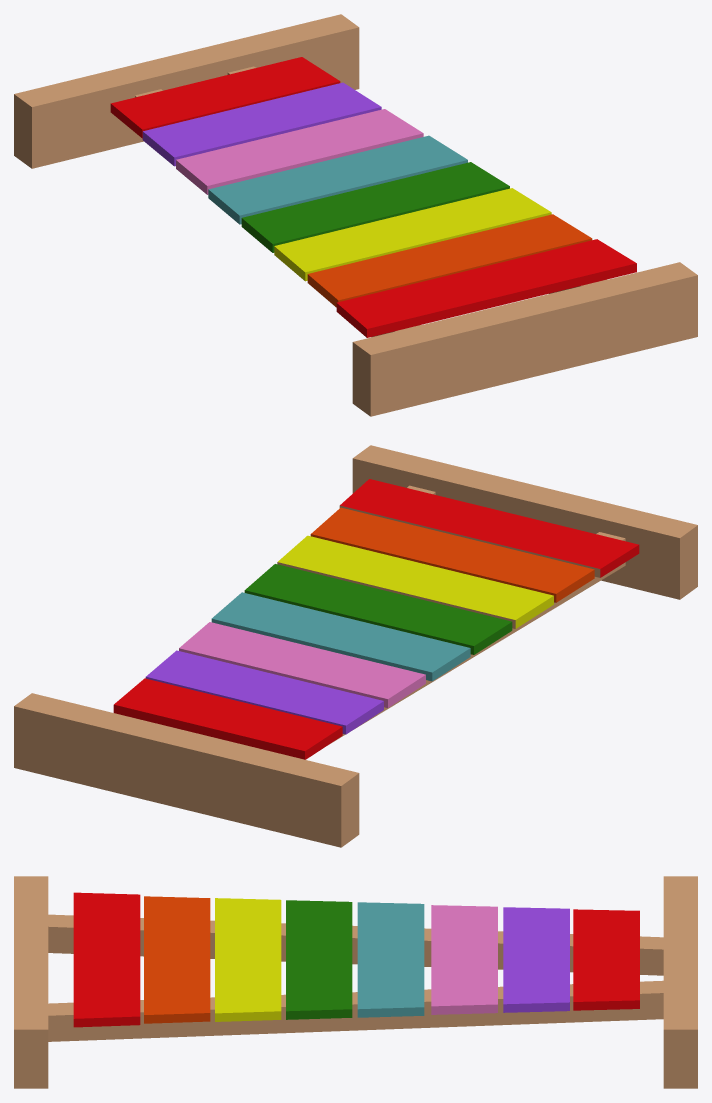
File: Xylophone.fbx
3 views of the same model, one above another, from view 1: azimuth 30°, elevation 25°; view 2: azimuth 150°, elevation 25°; view 3: azimuth 270°, elevation 25° (orthographic). The views are drawn at different scales.
Parts seen in each view (by area): view 1: Xylophone; view 2: Xylophone; view 3: Xylophone.
Part boxes in pixels (<box>): Xylophone: <box>14,14,697,416</box>; Xylophone: <box>14,445,697,847</box>; Xylophone: <box>14,876,697,1088</box>.
Size of the model in its own units: 50.66 by 9.12 by 95.59.
